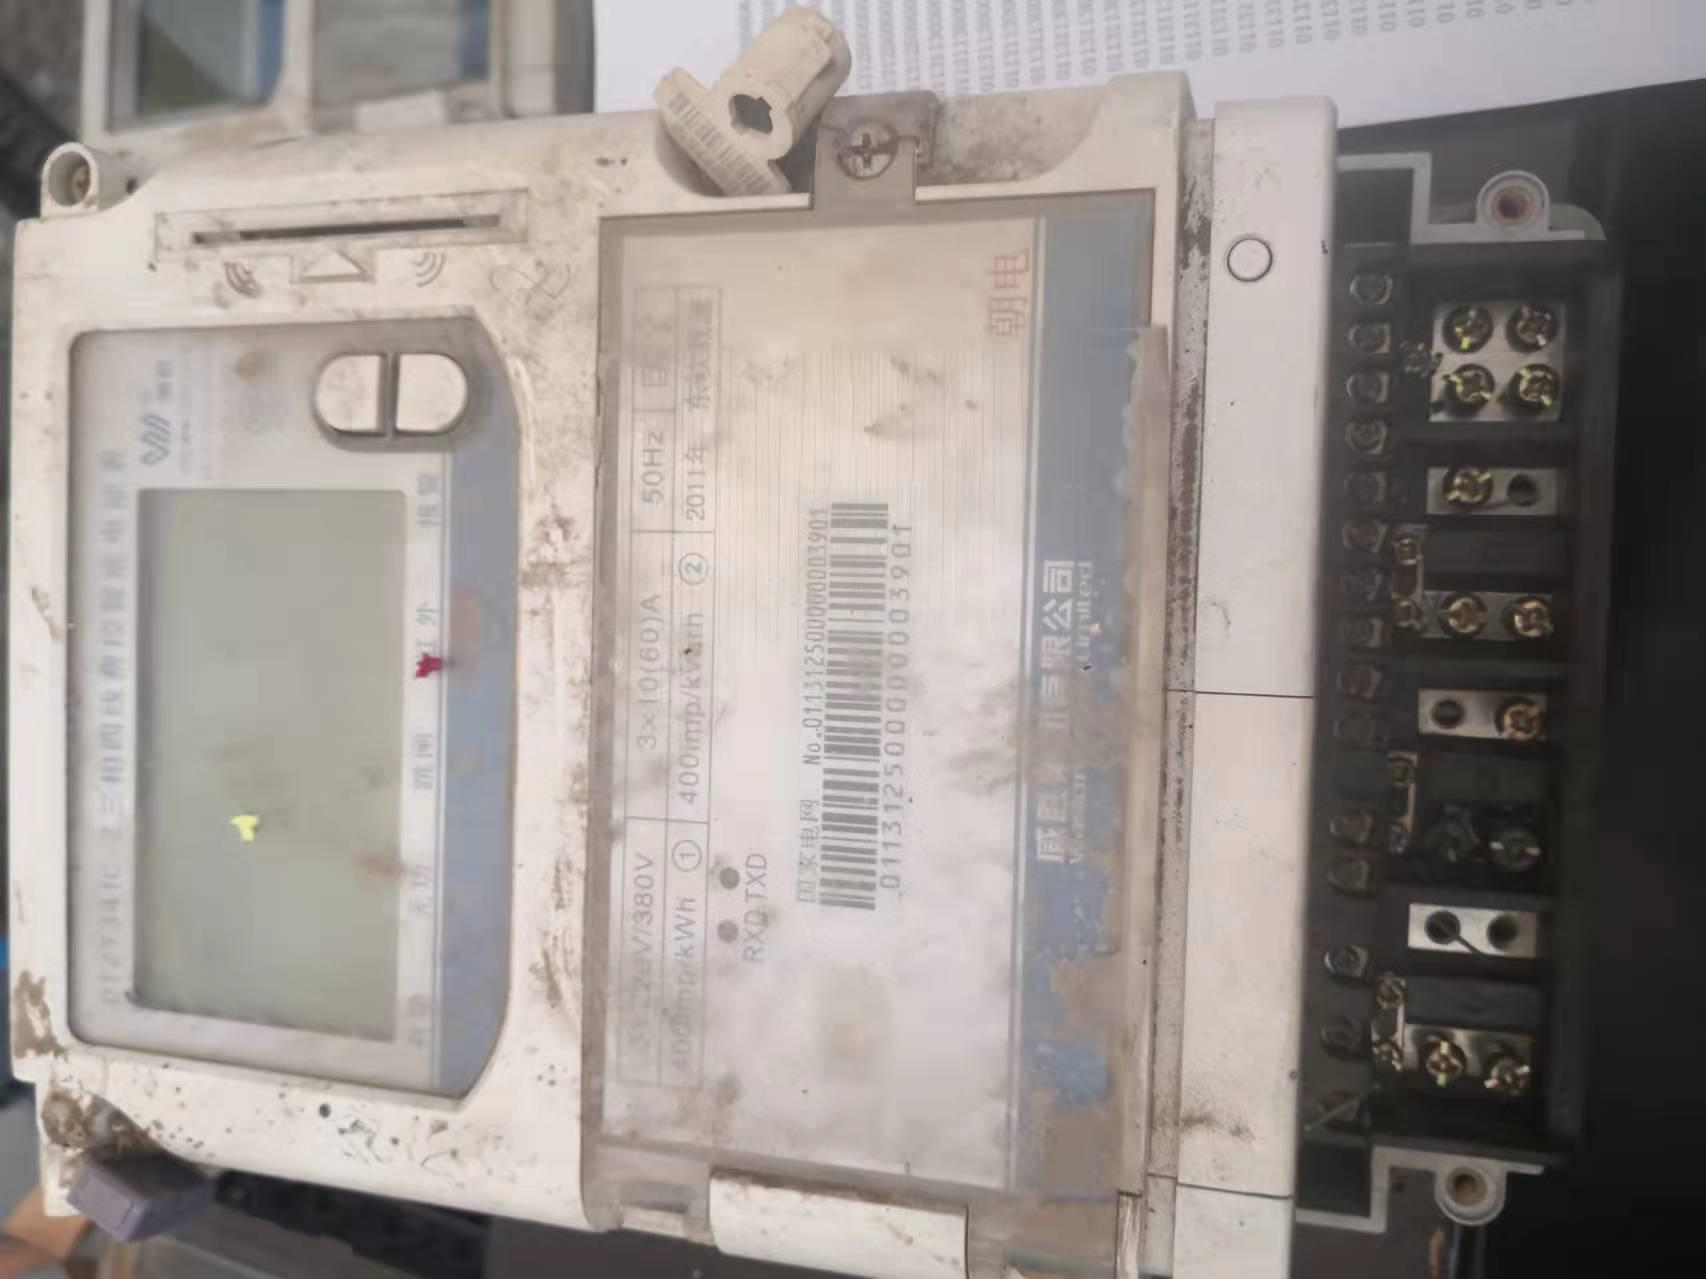digital: (12, 74, 1186, 1278)
